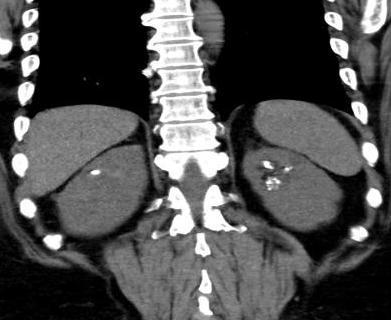Tas_Var: (89, 166, 102, 178), (263, 159, 276, 171), (284, 167, 292, 172), (266, 180, 274, 185), (276, 180, 281, 185), (272, 177, 278, 181), (266, 188, 272, 190), (267, 185, 270, 188)
